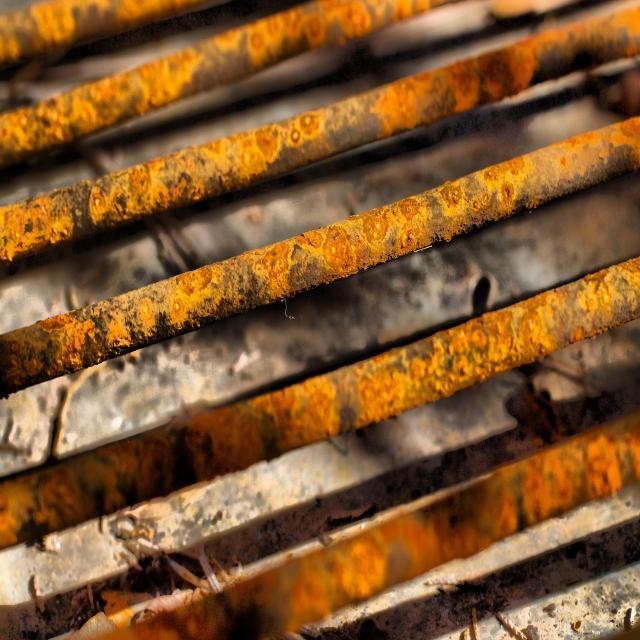Pitting Corrosion: (30, 157, 531, 346), (0, 361, 361, 551), (250, 455, 591, 625), (30, 109, 336, 251), (0, 40, 220, 155), (361, 29, 544, 134), (243, 0, 396, 74)
